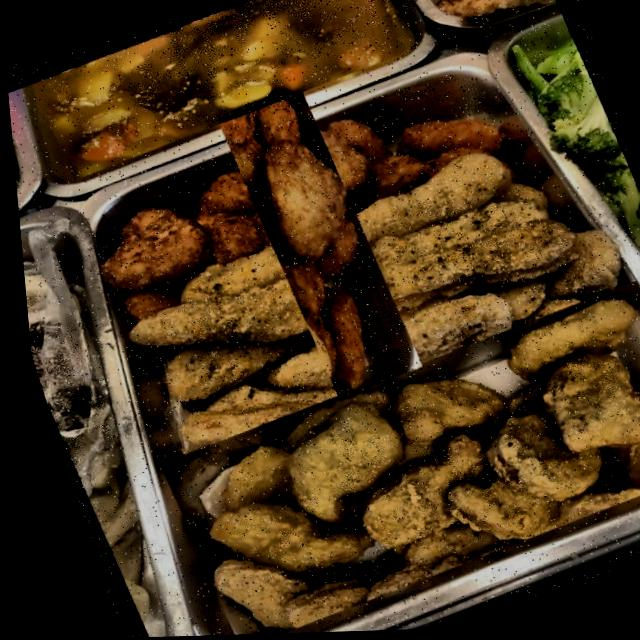Food: (124, 277, 640, 638), (103, 6, 472, 359), (17, 0, 422, 183)
